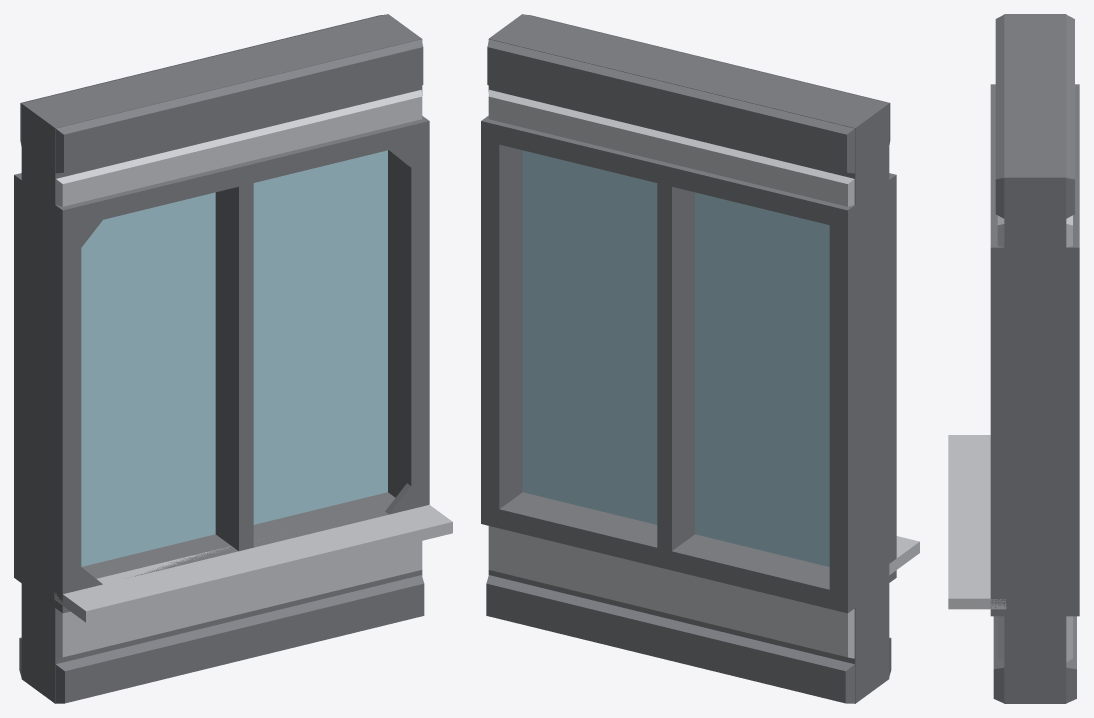
The model's file is SM_Wall_Window_Large.glb.
3 views of the same model, side by side, from view 1: azimuth 30°, elevation 25°; view 2: azimuth 150°, elevation 25°; view 3: azimuth 270°, elevation 25° (orthographic). The views are drawn at different scales.
Parts seen in each view (by area): view 1: SM_Wall_Window_Large; view 2: SM_Wall_Window_Large; view 3: SM_Wall_Window_Large.
Part boxes in pixels (x1,y1,x2,y2): SM_Wall_Window_Large: (14, 14, 452, 703); SM_Wall_Window_Large: (481, 14, 919, 703); SM_Wall_Window_Large: (948, 14, 1079, 703).
Bounding box in the file's own units: 2 × 3 × 0.68.
